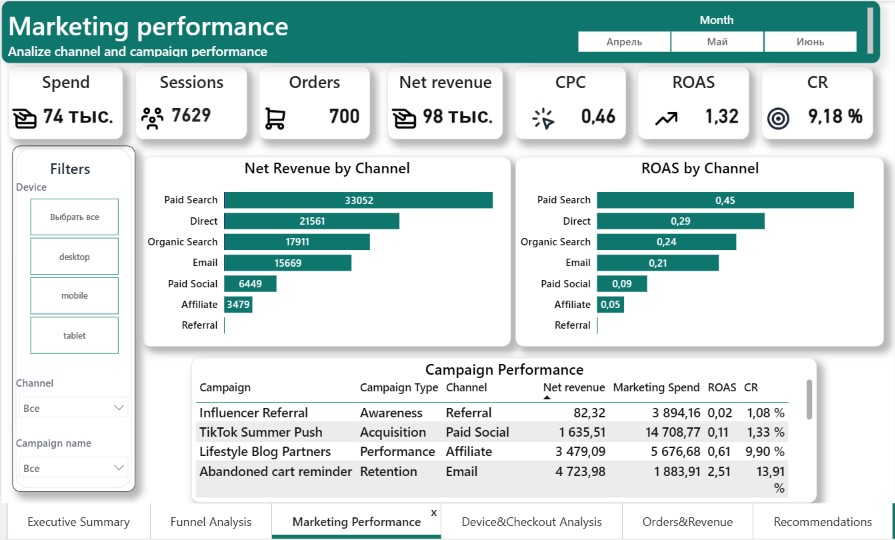

What the dashboard file says about the page in this screenshot:
{"tool":"powerbi","page":{"name":"Marketing Performance","canvas":[1280,720],"ordinal":2},"visuals":[{"type":"textbox","box":[0,0,1259,90],"z":0},{"type":"slicer","title":"Month","fields":{"Values":["dim_calendar.Month"]},"box":[800,16,448,64],"z":1000},{"type":"shape","box":[16,208,176,496],"z":1000,"group":"g1"},{"type":"cardVisual","title":"Spend","fields":{"Data":["_Measure.Marketing Spend"]},"box":[10,95,164,104],"z":2000},{"type":"image","box":[192,144,48,48],"z":3000},{"type":"slicer","title":"Channel","fields":{"Values":["fact_sessions.channel"]},"box":[16,537,176,64],"z":3000,"group":"g1"},{"type":"card","title":"Sessions","fields":{"Values":["_Measure.0_Session_All"]},"box":[192,95,160,104],"z":4000},{"type":"slicer","title":"Device","fields":{"Values":["fact_sessions.device"]},"box":[16,256,176,256],"z":4000,"group":"g1"},{"type":"cardVisual","title":"ROAS","fields":{"Data":["_Measure.ROAS"]},"box":[911.5,95,160,104],"z":5000},{"type":"cardVisual","title":"CR","fields":{"Data":["_Measure.CR"]},"box":[1088,95,160,104],"z":6000},{"type":"slicer","title":"Campaign name","fields":{"Values":["dim_campaigns.campaign_name"]},"box":[16,624,176,64],"z":6000,"group":"g1"},{"type":"cardVisual","title":"Net revenue","fields":{"Data":["_Measure.Net revenue"]},"box":[553.5,95,165,104],"z":7000},{"type":"image","box":[368,144,48,48],"z":8000},{"type":"image","box":[544,144,64,48],"z":9000},{"type":"cardVisual","title":"Orders","fields":{"Data":["_Measure.Orders"]},"box":[368,95,160,104],"z":10000},{"type":"cardVisual","title":"CPC","fields":{"Data":["_Measure.CPC"]},"box":[735,95,160,104],"z":11000},{"type":"barChart","title":" Net Revenue by Channel","fields":{"Y":["_Measure.4_Session_Purchase_Completed","_Measure.Net revenue"],"Category":["fact_sessions.Channel_Display"]},"box":[202,224,528,272],"z":12000},{"type":"barChart","title":"ROAS by Channel","fields":{"Y":["_Measure.ROAS 2"],"Category":["fact_sessions.Channel_Display"]},"box":[736,224,528,272],"z":13000},{"type":"tableEx","title":"Campaign Performance","fields":{"Values":["dim_campaigns.campaign_name","dim_campaigns.Campaign_Type_Display","dim_campaigns.Channel_Display_for_Campaigns","_Measure.Net revenue","_Measure.Marketing Spend","_Measure.ROAS","_Measure.CR"]},"box":[272,512,896,208],"z":14000},{"type":"image","box":[928,144,48,48],"z":15000},{"type":"image","box":[1088,144,48,48],"z":16000},{"type":"image","box":[752,144,48,48],"z":17000},{"type":"textbox","box":[64.8,219.7,96.7,43.3],"z":17000,"group":"g1"},{"type":"image","box":[8,144,48,48],"z":18000},{"type":"group","id":"g1","title":"Группа 1","box":[16,208,176,496],"z":19000}]}

Visuals, with their boxes on the page's 1280x720 design canvas (x1, y1, x2, y2). These are canvas units, not pixel positions in the 895x540 screenshot, which may show the page scaled, cropped or inside an application window:
textbox: (0,0,1259,90)
"Month" slicer: (800,16,1248,80)
shape: (16,208,192,704)
"Spend" cardVisual: (10,95,174,199)
image: (192,144,240,192)
"Channel" slicer: (16,537,192,601)
"Sessions" card: (192,95,352,199)
"Device" slicer: (16,256,192,512)
"ROAS" cardVisual: (912,95,1072,199)
"CR" cardVisual: (1088,95,1248,199)
"Campaign name" slicer: (16,624,192,688)
"Net revenue" cardVisual: (554,95,718,199)
image: (368,144,416,192)
image: (544,144,608,192)
"Orders" cardVisual: (368,95,528,199)
"CPC" cardVisual: (735,95,895,199)
" Net Revenue by Channel" barChart: (202,224,730,496)
"ROAS by Channel" barChart: (736,224,1264,496)
"Campaign Performance" tableEx: (272,512,1168,720)
image: (928,144,976,192)
image: (1088,144,1136,192)
image: (752,144,800,192)
textbox: (65,220,162,263)
image: (8,144,56,192)
"Группа 1" group: (16,208,192,704)
